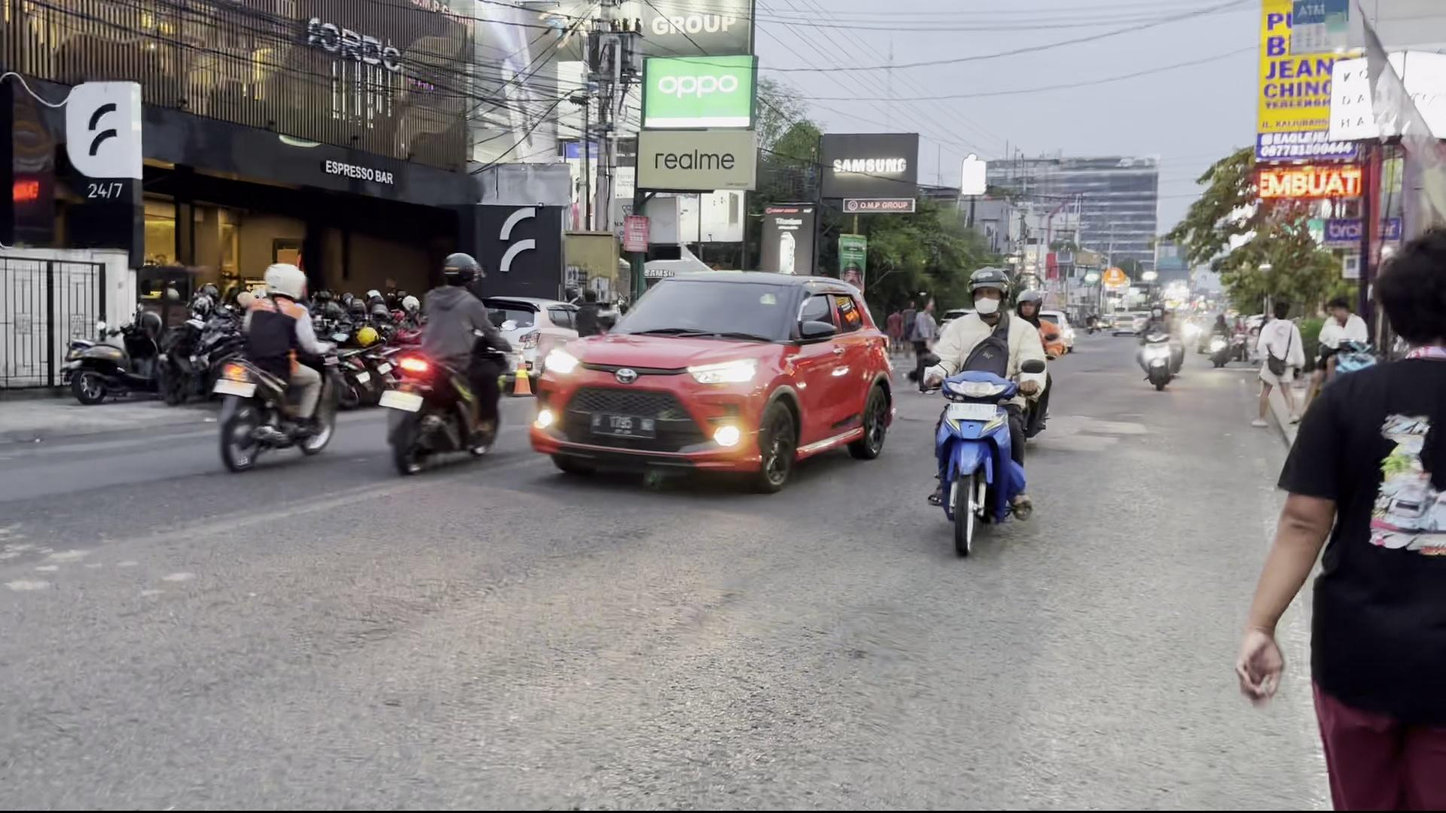helm: (962, 265, 1017, 320)
riding: (913, 261, 1055, 562)
